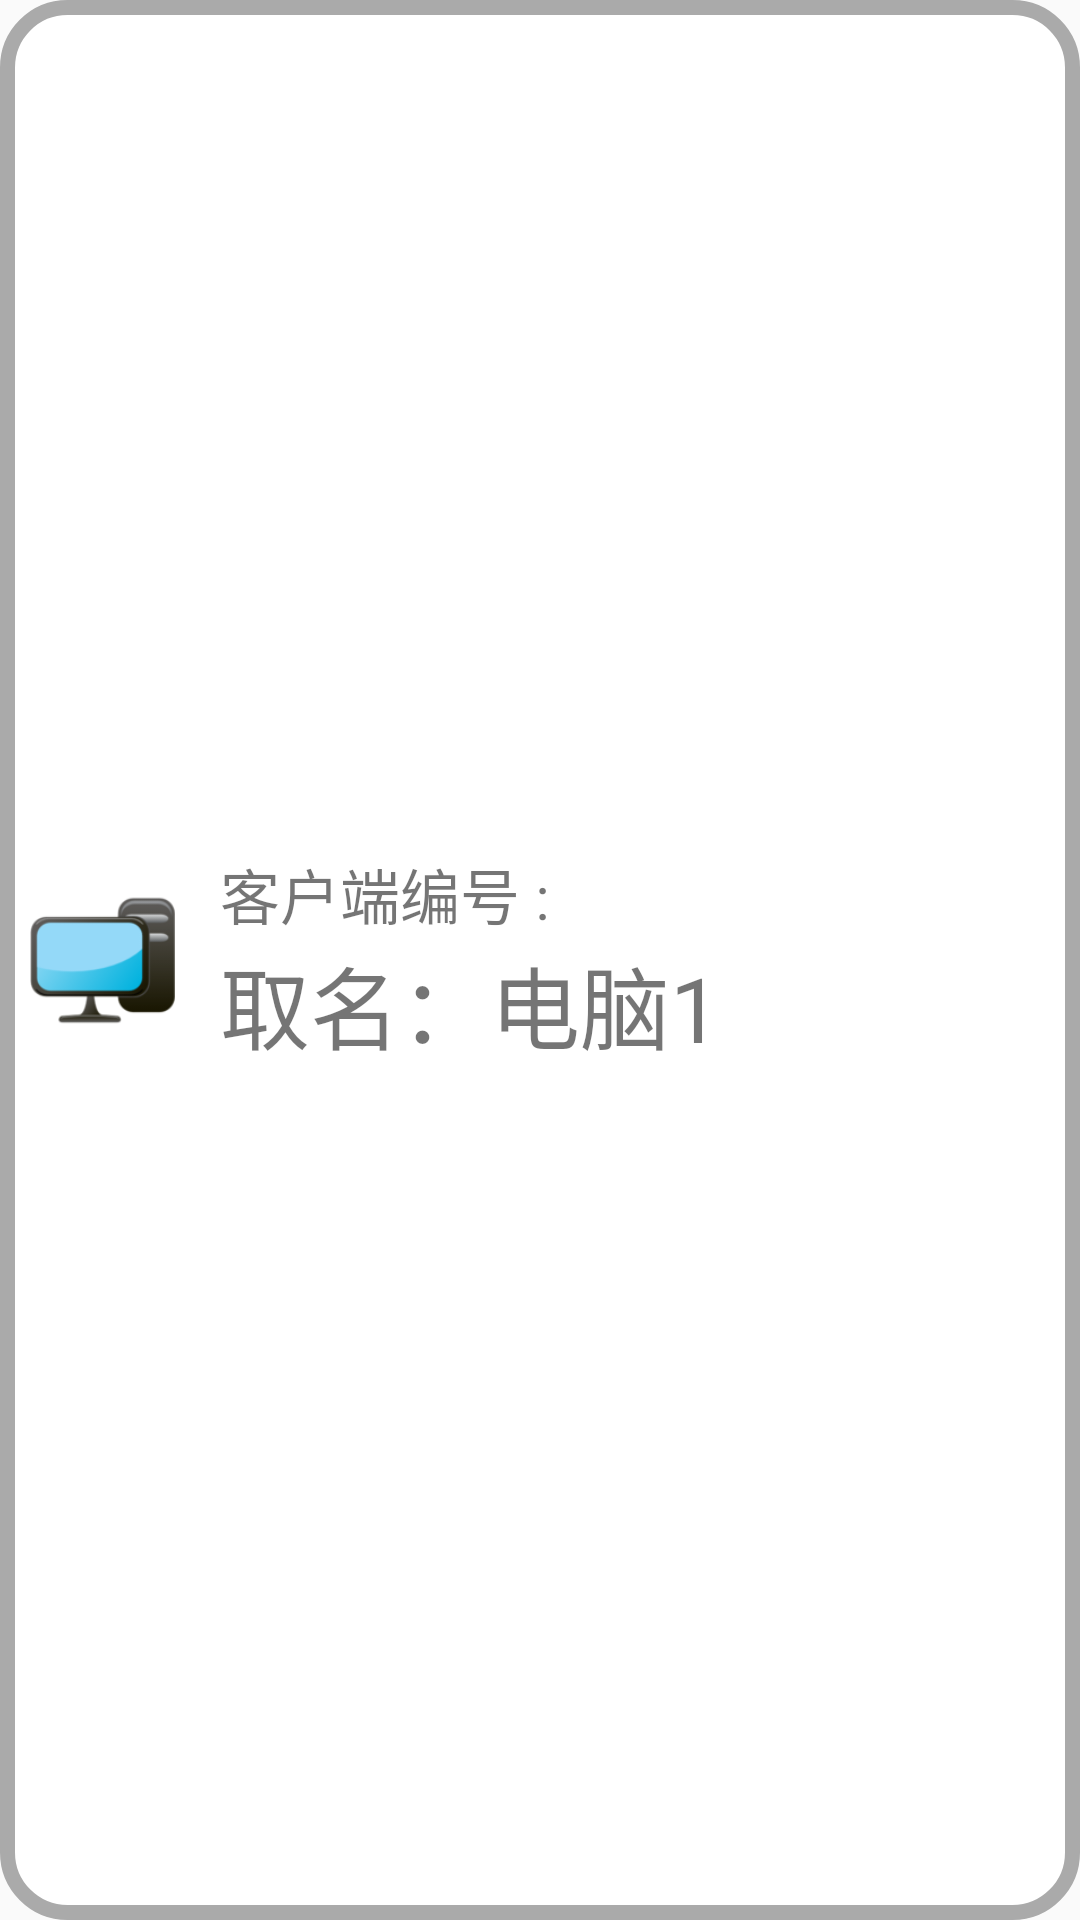

Named icons in this screenshot (1080 × 1920) and their centers, (x,y):
computer: (102,960)
